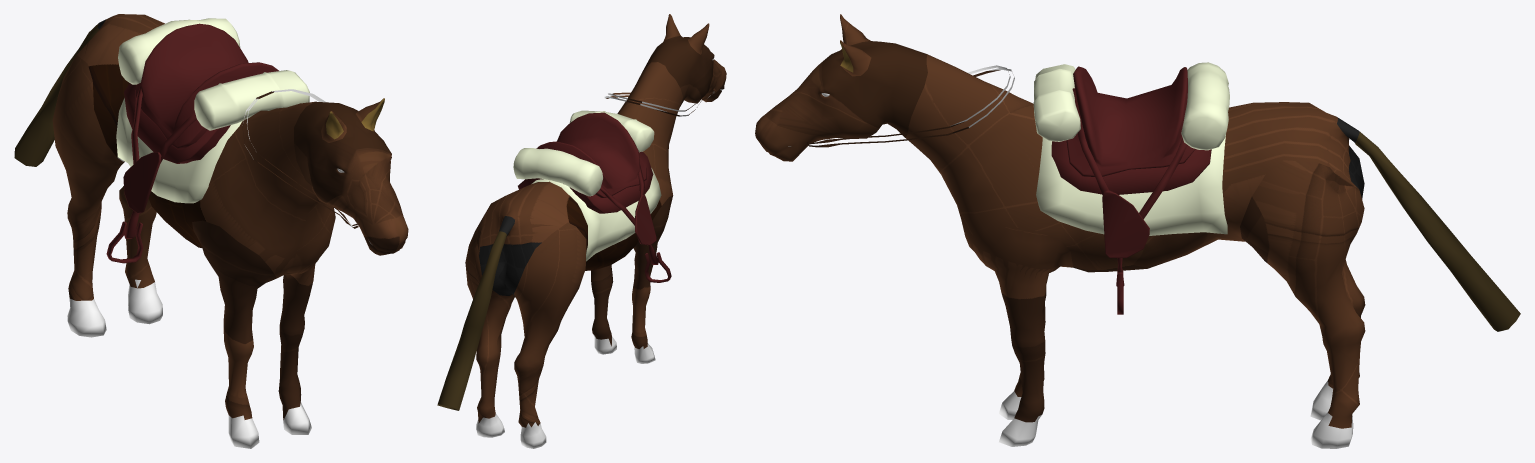
File: horse1.obj
3 views of the same model, side by side, from view 1: azimuth 30°, elevation 25°; view 2: azimuth 150°, elevation 25°; view 3: azimuth 270°, elevation 25° (orthographic). The views are drawn at different scales.
Visible parts, largest first — view 1: horse_body1Shape, horse_saddleShape, blanketsShape; view 2: horse_body1Shape, horse_saddleShape, blanketsShape; view 3: horse_body1Shape, horse_saddleShape, blanketsShape.
Part boxes in pixels (x1,y1,x2,y2): horse_body1Shape: (14, 14, 408, 448); horse_saddleShape: (106, 23, 278, 263); blanketsShape: (116, 18, 309, 203); horse_body1Shape: (437, 14, 726, 448); horse_saddleShape: (518, 112, 671, 282); blanketsShape: (513, 110, 661, 261); horse_body1Shape: (755, 14, 1520, 448); horse_saddleShape: (1051, 66, 1211, 314); blanketsShape: (1033, 62, 1229, 235).
Bounding box in the file's own units: 119 × 200 × 346.
Materials: 8 (1 with a texture image).
